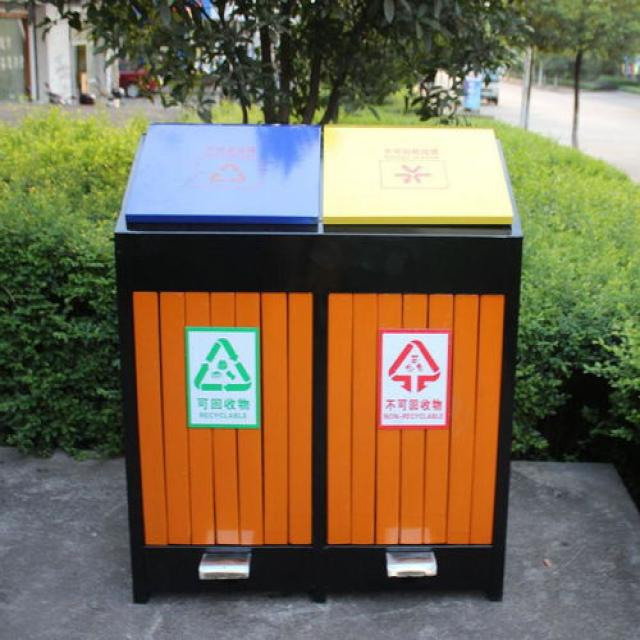garbage_bin: (112, 121, 524, 601)
